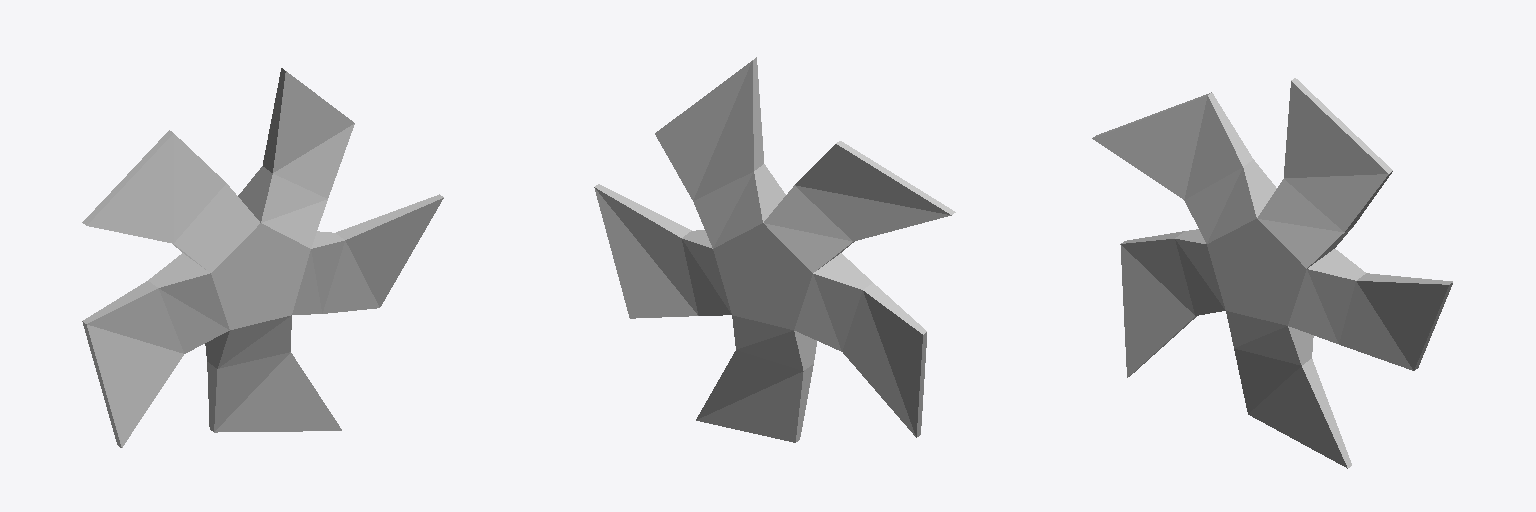
Rendered from fanWheel.obj.
3 views of the same model, side by side, from view 1: azimuth 30°, elevation 25°; view 2: azimuth 150°, elevation 25°; view 3: azimuth 330°, elevation 25° (orthographic).
Visible parts, largest first — view 1: Circle; view 2: Circle; view 3: Circle.
Boxes of the visible parts, x1=… form: Circle: x1=82, y1=68, x2=443, y2=447; Circle: x1=594, y1=57, x2=955, y2=442; Circle: x1=1092, y1=78, x2=1452, y2=468.
Size of the model in its own units: 1.44 by 1.44 by 0.1964.